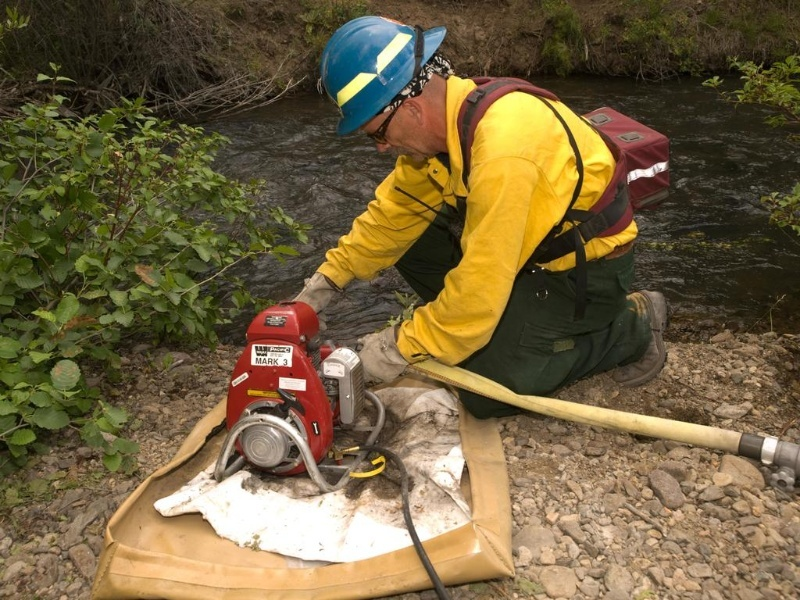Baret: (318, 16, 449, 135)
